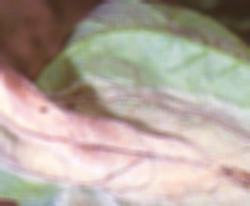Tomato leaf late blight: (0, 1, 250, 206)
